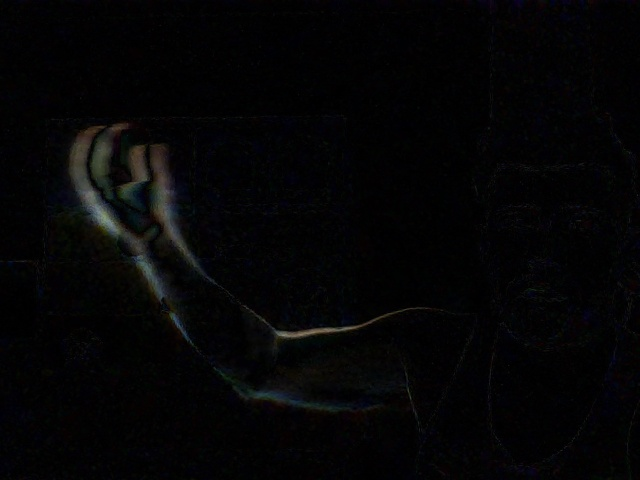arm_fo: (62, 115, 279, 390)
